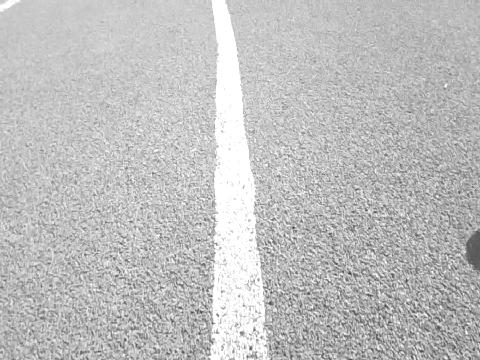Lines: (211, 0, 270, 360)
